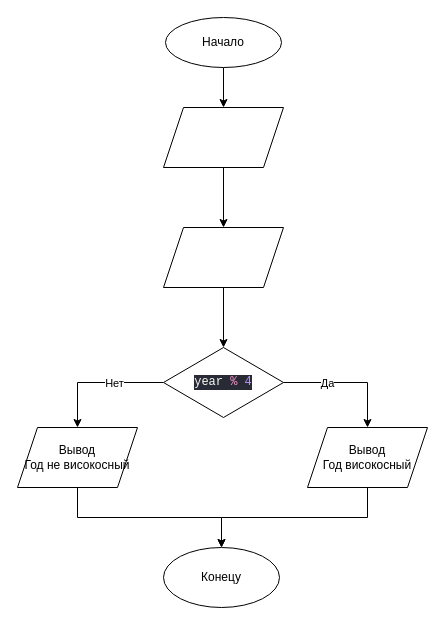
The diagram is 445 pixels wide and 625 high, and some of its shapes have lost their labels. Here are the shapes that lost their labels. From the top down, the centre of each, then its label:
At pixel 223 137: "Вывод Введите год".
At pixel 223 257: "Ввод year".
